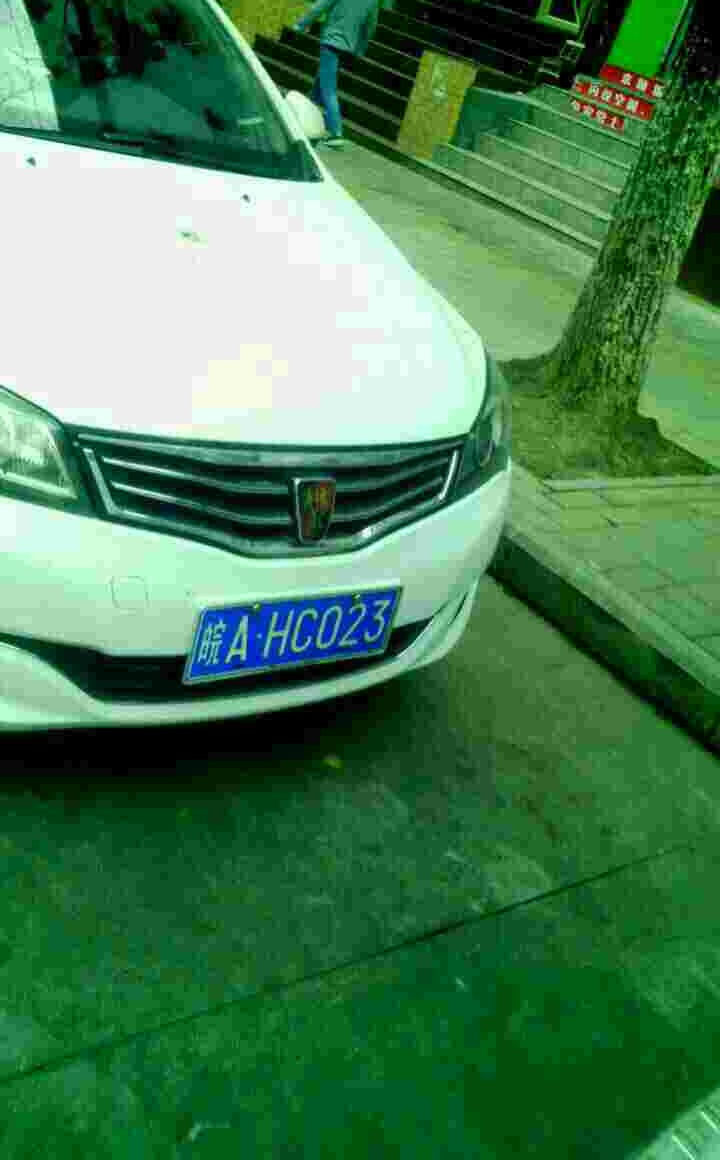license_plate: (181, 592, 403, 683)
